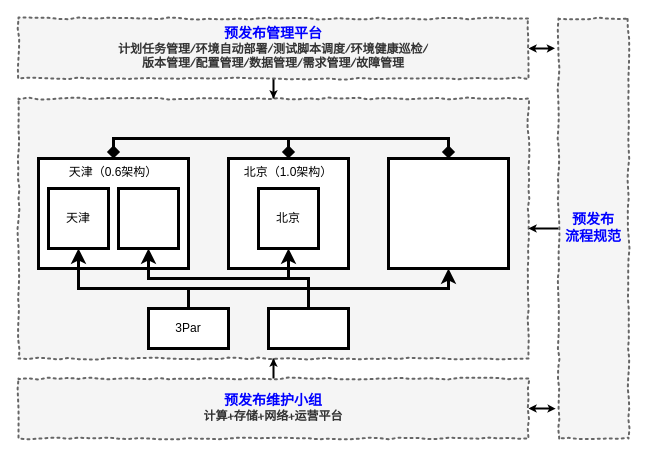
Some shapes in this 646 by 456 pixel diagram are drawn without their labels. Here are the shapes that lost their labels. From the top down, the box of each, then its label:
(116, 186, 180, 250): 天津2
(17, 97, 529, 359): 预发布测试环境
(386, 156, 510, 270): 赣州 （种子云/合营云）
(266, 306, 350, 350): Cerberus
